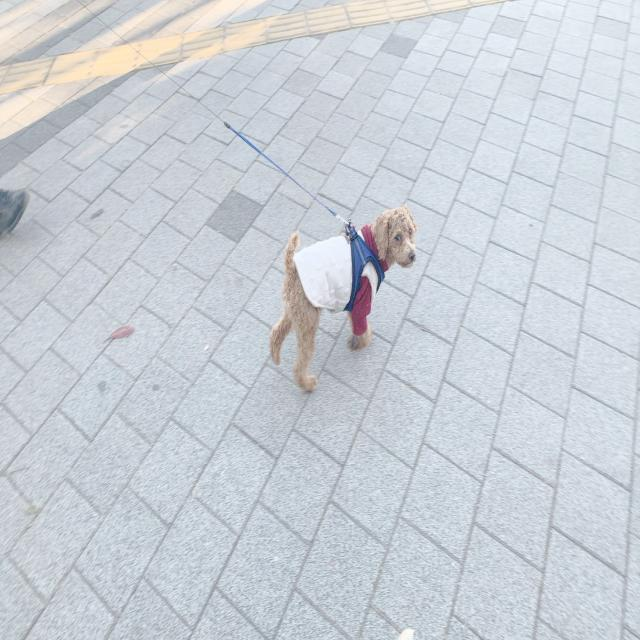Dog: (268, 202, 418, 397)
